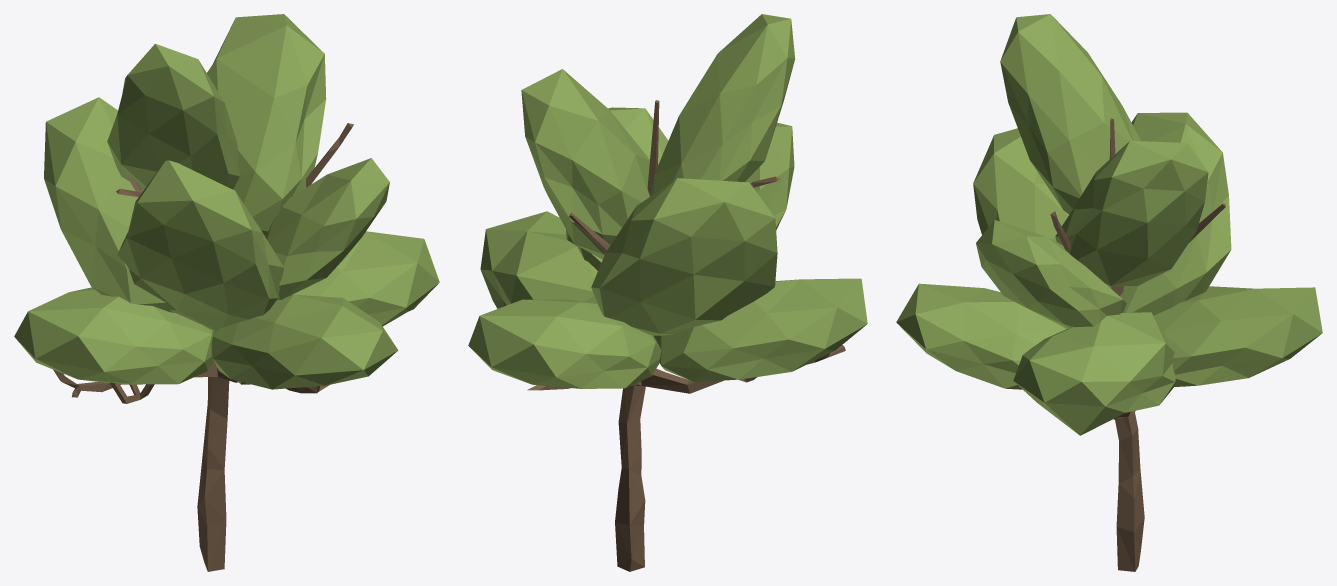
Rendered from tree4.fbx.
3 renders of one model, left to right at view 1: azimuth 30°, elevation 25°; view 2: azimuth 150°, elevation 25°; view 3: azimuth 270°, elevation 25°, orthographic. The views are drawn at different scales.
Parts seen in each view (by area): view 1: Icosphere, Cube.002; view 2: Icosphere, Cube.002; view 3: Icosphere, Cube.002.
Boxes of the visible parts, bbox=[...] form: Icosphere: bbox=[14, 14, 439, 389]; Cube.002: bbox=[53, 123, 353, 571]; Icosphere: bbox=[468, 14, 867, 388]; Cube.002: bbox=[527, 100, 845, 571]; Icosphere: bbox=[896, 14, 1322, 435]; Cube.002: bbox=[1050, 118, 1225, 571].
Size of the model in its own units: 823 by 1138 by 863.
